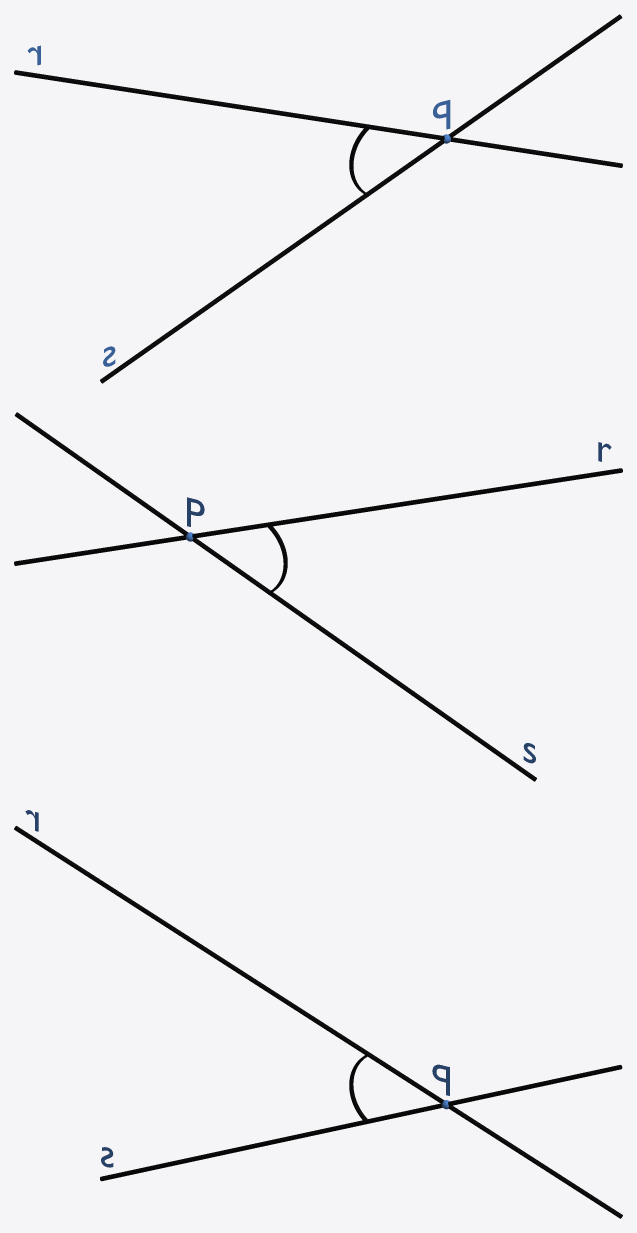
File: ob1.5_retas_obliquas.wrl.glb
The picture shows the model from 3 angles, top to bottom: view 1: azimuth 30°, elevation 25°; view 2: azimuth 150°, elevation 25°; view 3: azimuth 330°, elevation 25°; orthographic projection.
Visible parts, largest first — view 1: Sphere4_Sphere; view 2: Sphere4_Sphere; view 3: Sphere4_Sphere.
Part boxes in pixels (x1,y1,x2,y2): Sphere4_Sphere: (14,14,622,383); Sphere4_Sphere: (14,412,622,781); Sphere4_Sphere: (14,826,622,1218).
Size of the model in its own units: 14.99 by 8.35 by 0.2.
